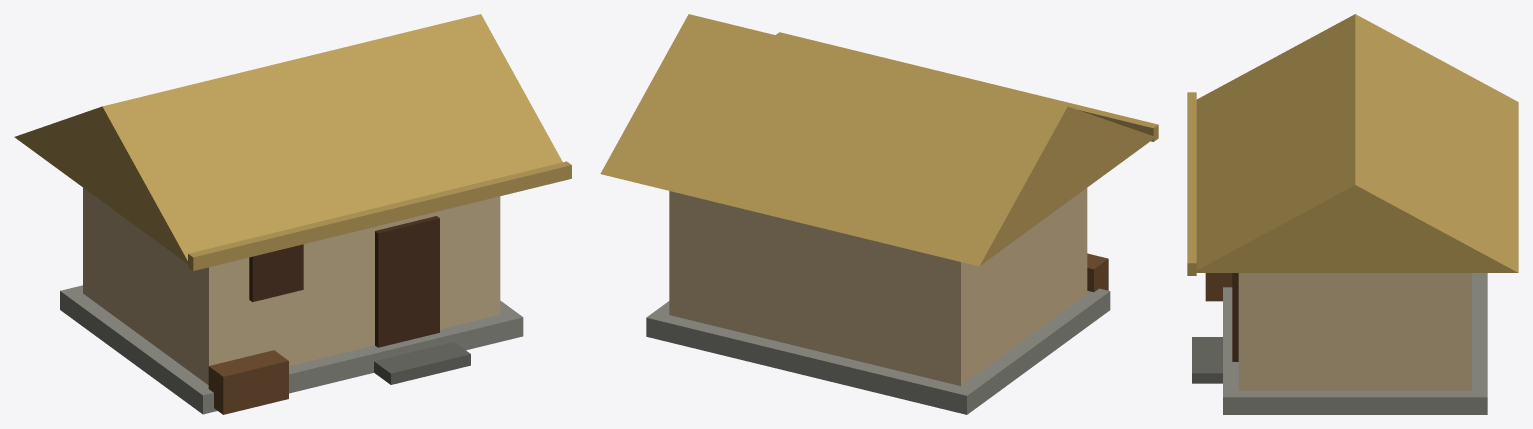
Rendered from prop_choga.glb.
3 renders of one model, left to right at view 1: azimuth 30°, elevation 25°; view 2: azimuth 150°, elevation 25°; view 3: azimuth 270°, elevation 25°, orthographic. The views are drawn at different scales.
Parts seen in each view (by area): view 1: prop_choga; view 2: prop_choga; view 3: prop_choga.
Part boxes in pixels (x1,y1,x2,y2): prop_choga: (14, 14, 571, 414); prop_choga: (600, 14, 1158, 414); prop_choga: (1187, 14, 1518, 414).
Bounding box in the file's own units: 5.2 × 3.45 × 4.26.
